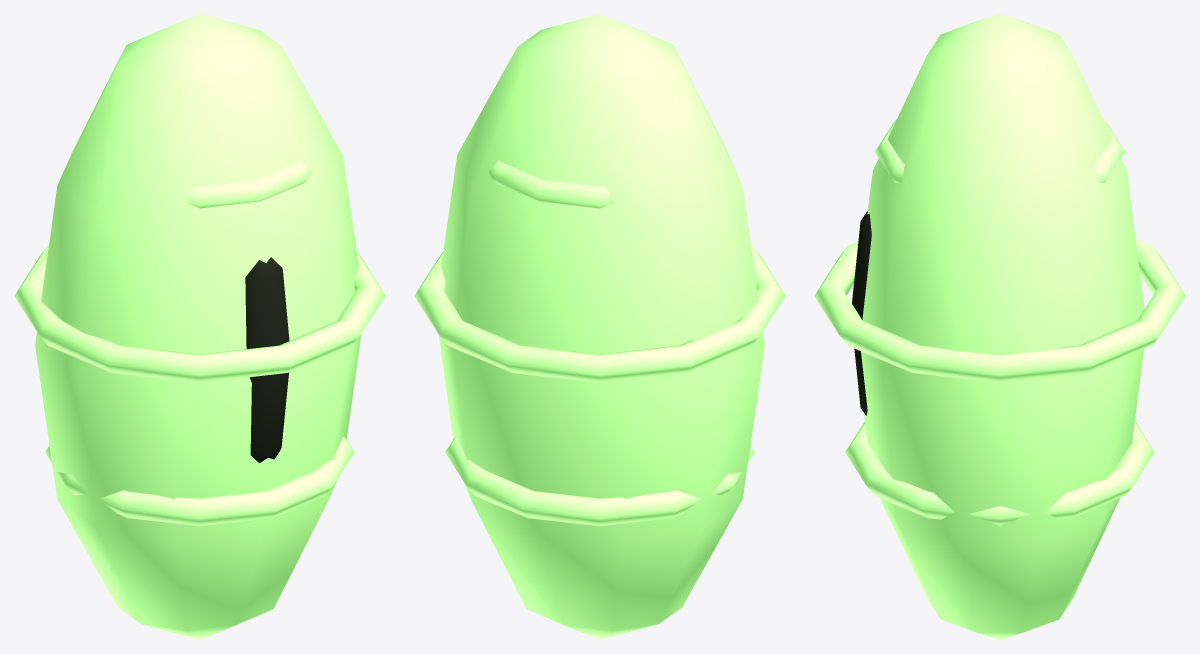
The model's file is cocoon_husk.glb.
The picture shows the model from 3 angles, left to right: view 1: azimuth 30°, elevation 25°; view 2: azimuth 150°, elevation 25°; view 3: azimuth 270°, elevation 25°; orthographic projection.
Visible parts, largest first — view 1: part.cocoon_husk; view 2: part.cocoon_husk; view 3: part.cocoon_husk.
Boxes of the visible parts, bbox=[...] form: part.cocoon_husk: bbox=[14, 14, 385, 639]; part.cocoon_husk: bbox=[414, 14, 785, 639]; part.cocoon_husk: bbox=[814, 14, 1185, 639].
Size of the model in its own units: 0.5378 by 1 by 0.5378.
